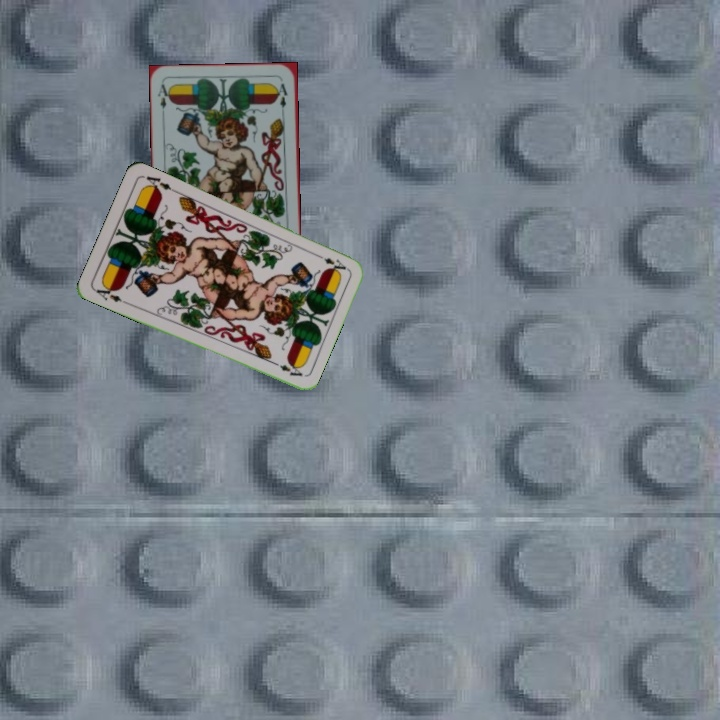EA: (91, 280, 130, 306), (311, 250, 350, 272), (154, 80, 172, 120)
